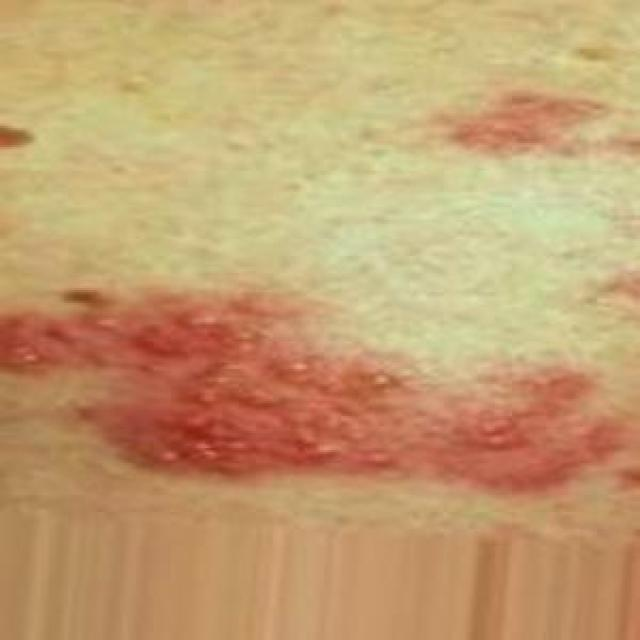Shingles: (0, 285, 622, 498), (451, 87, 613, 157)
